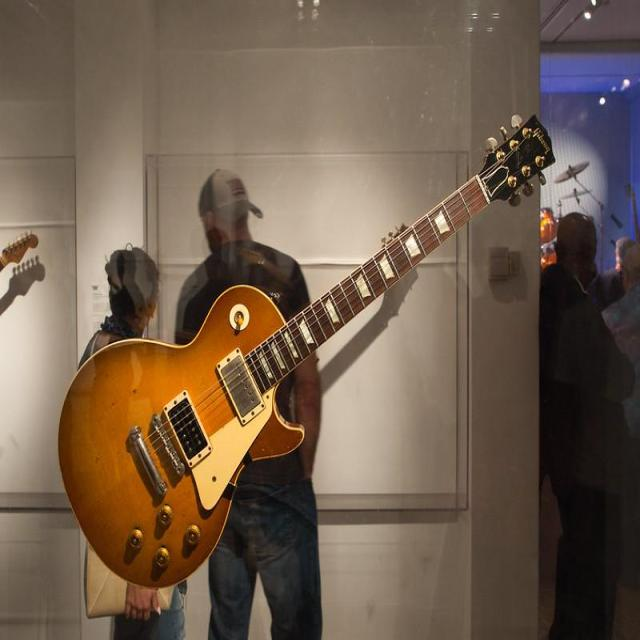guitar: (59, 117, 554, 586)
